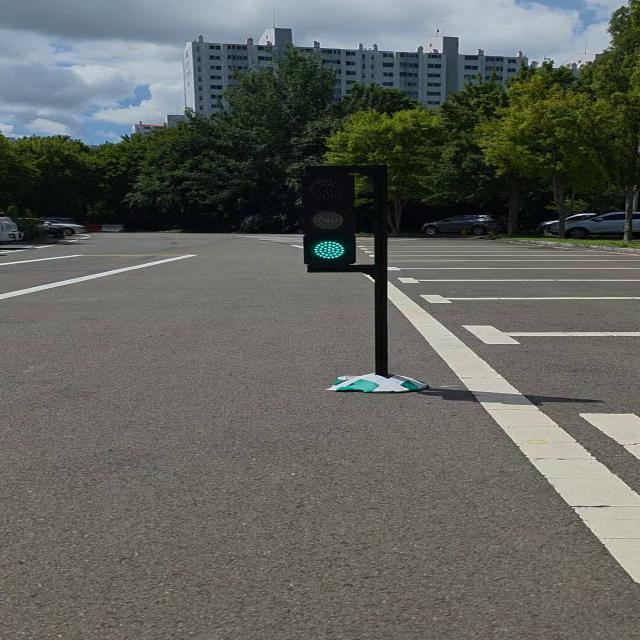green: (302, 165, 357, 270)
